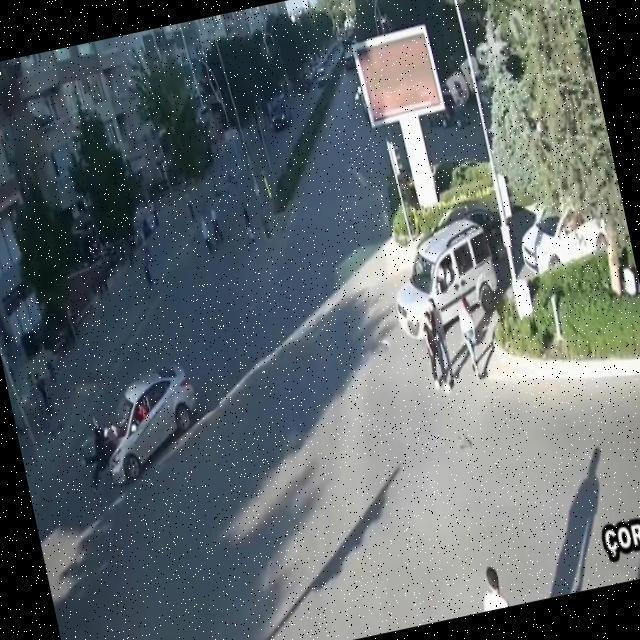accident: (62, 351, 212, 495)
